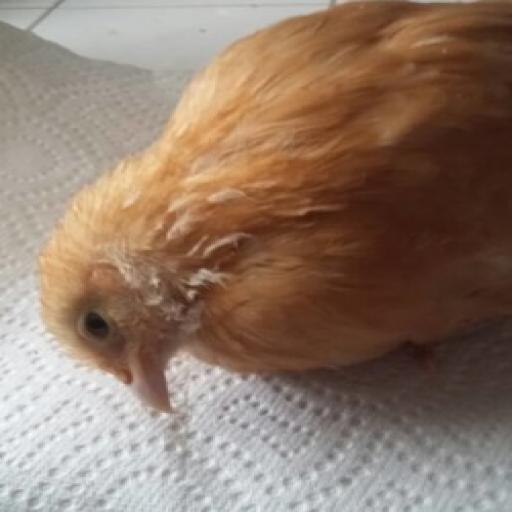healthy: (45, 227, 226, 390)
